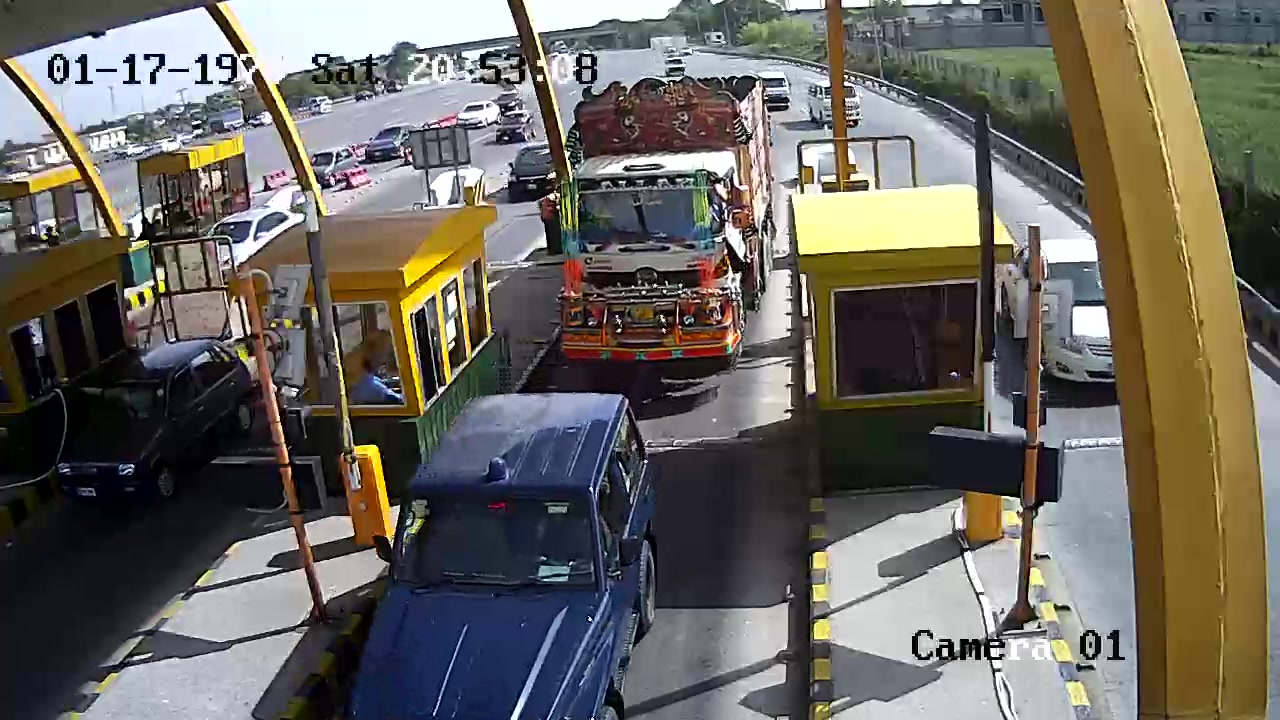F5: (558, 73, 770, 368)
